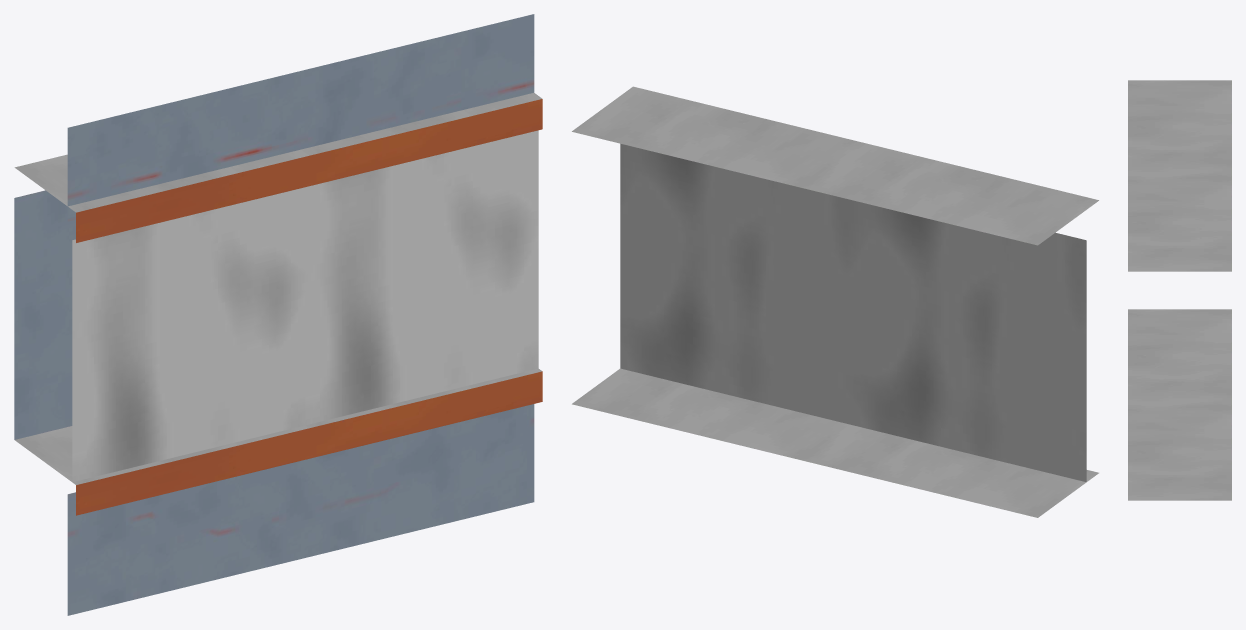
File: Wall_Window_B.glb
3 renders of one model, left to right at view 1: azimuth 30°, elevation 25°; view 2: azimuth 150°, elevation 25°; view 3: azimuth 270°, elevation 25°, orthographic. The views are drawn at different scales.
Visible parts, largest first — view 1: Wall_Window_B; view 2: Wall_Window_B; view 3: Wall_Window_B.
Part boxes in pixels (x1=…): Wall_Window_B: x1=14, y1=14, x2=542, y2=615; Wall_Window_B: x1=572, y1=86, x2=1098, y2=517; Wall_Window_B: x1=1128, y1=80, x2=1231, y2=500.
Size of the model in its own units: 6 by 6 by 1.38.
3 materials, 3 textured.
